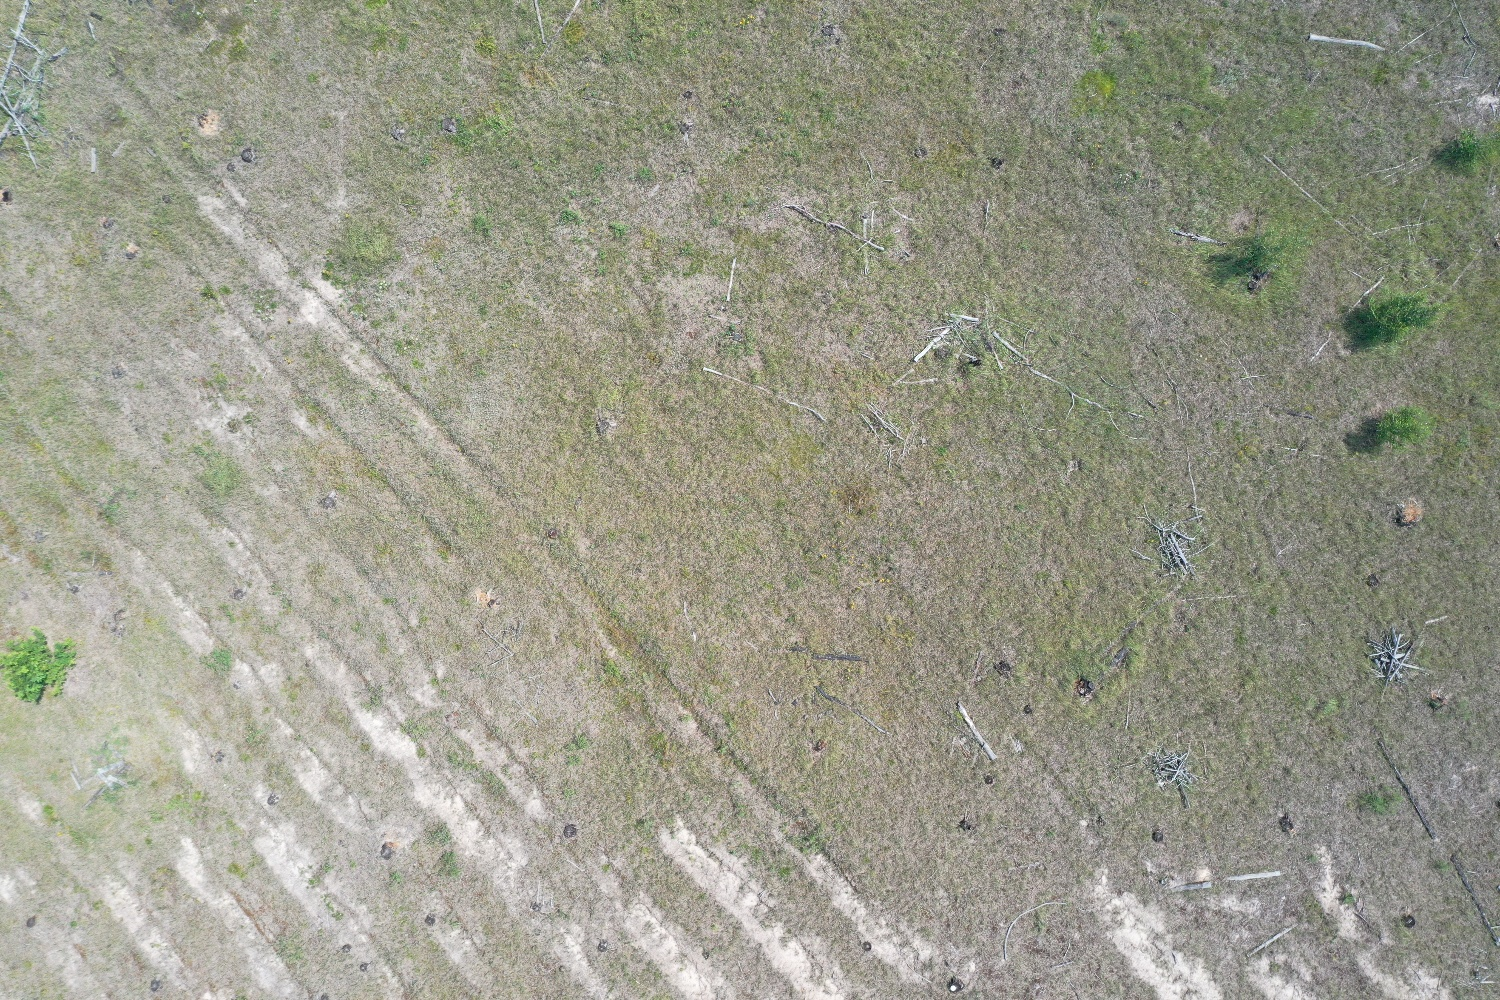branches: (1367, 627, 1424, 682), (1158, 521, 1198, 574), (1151, 749, 1195, 787)
